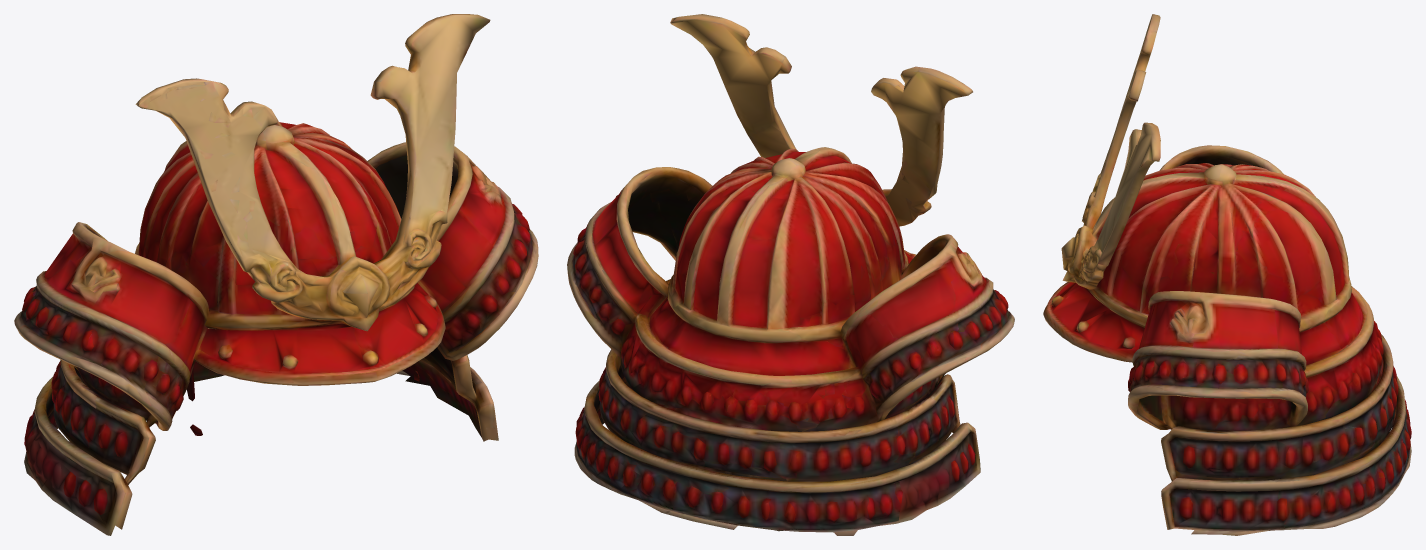
The picture shows the model from 3 angles, left to right: view 1: azimuth 30°, elevation 25°; view 2: azimuth 150°, elevation 25°; view 3: azimuth 270°, elevation 25°; orthographic projection. The views are drawn at different scales.
Parts seen in each view (by area): view 1: material; view 2: material; view 3: material.
Part boxes in pixels (bbox=[...]): material: bbox=[14, 14, 538, 535]; material: bbox=[567, 14, 1014, 535]; material: bbox=[1043, 14, 1411, 535].
Bounding box in the file's own units: 0.9197 × 0.8026 × 0.7124.
Materials: 1 (1 with a texture image).
